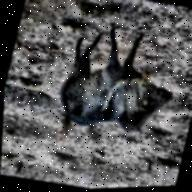boar: (52, 13, 188, 144)
